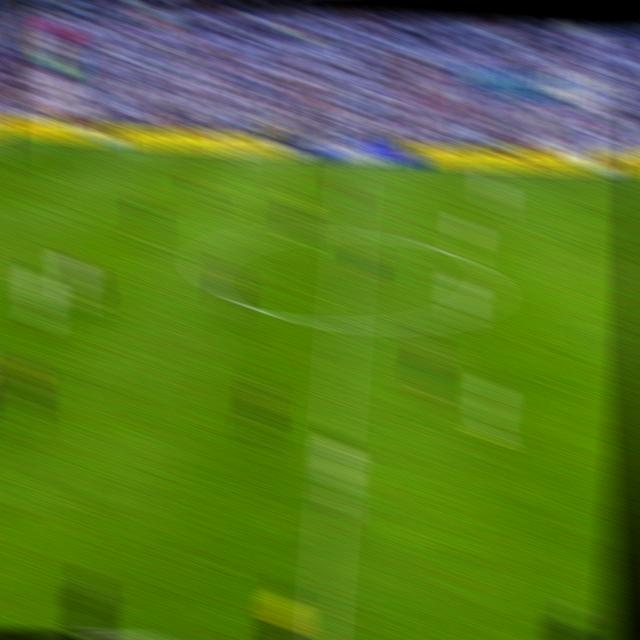halfcircle_bottom: (329, 307, 358, 339)
halfcircle_top: (336, 219, 362, 246)
midline_bottom_intersection: (304, 624, 337, 640)
midline_top_intersection: (342, 158, 367, 177)
